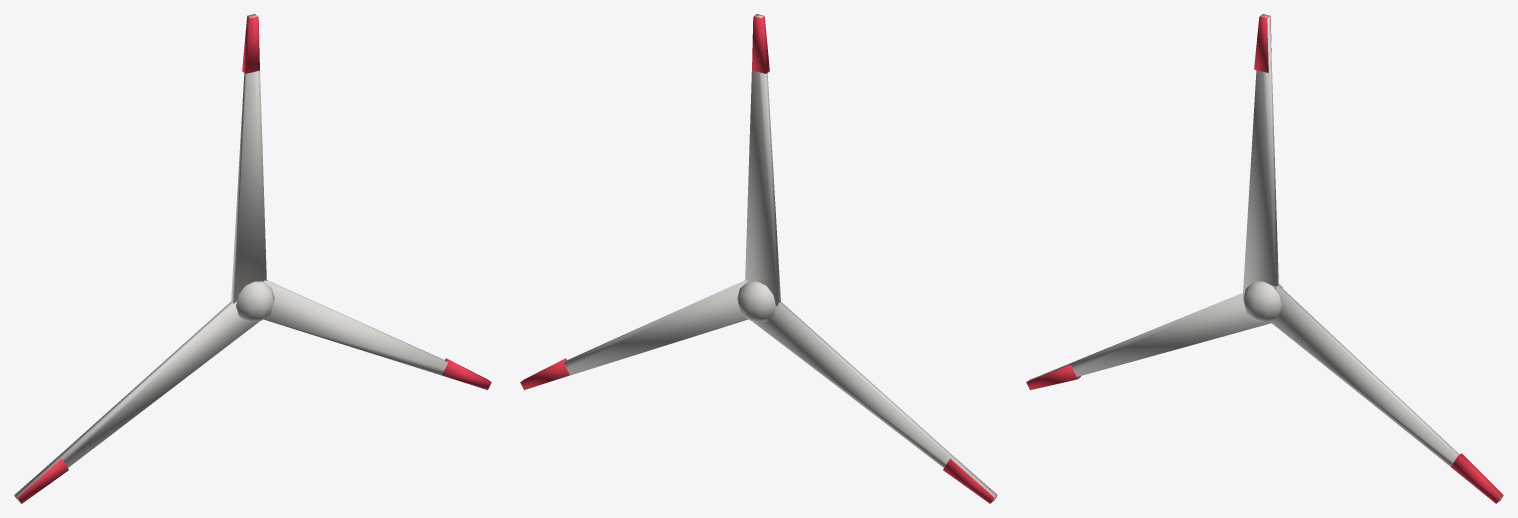
Rendered from sky_turbine_rotor.glb.
3 renders of one model, left to right at view 1: azimuth 30°, elevation 25°; view 2: azimuth 150°, elevation 25°; view 3: azimuth 330°, elevation 25°, orthographic.
Parts seen in each view (by area): view 1: TurbineRotor; view 2: TurbineRotor; view 3: TurbineRotor.
Boxes of the visible parts, <box> form: TurbineRotor: <box>14,14,491,503</box>; TurbineRotor: <box>520,14,997,503</box>; TurbineRotor: <box>1026,14,1503,503</box>.
Bounding box in the file's own units: 7.33 × 6.35 × 0.6.
